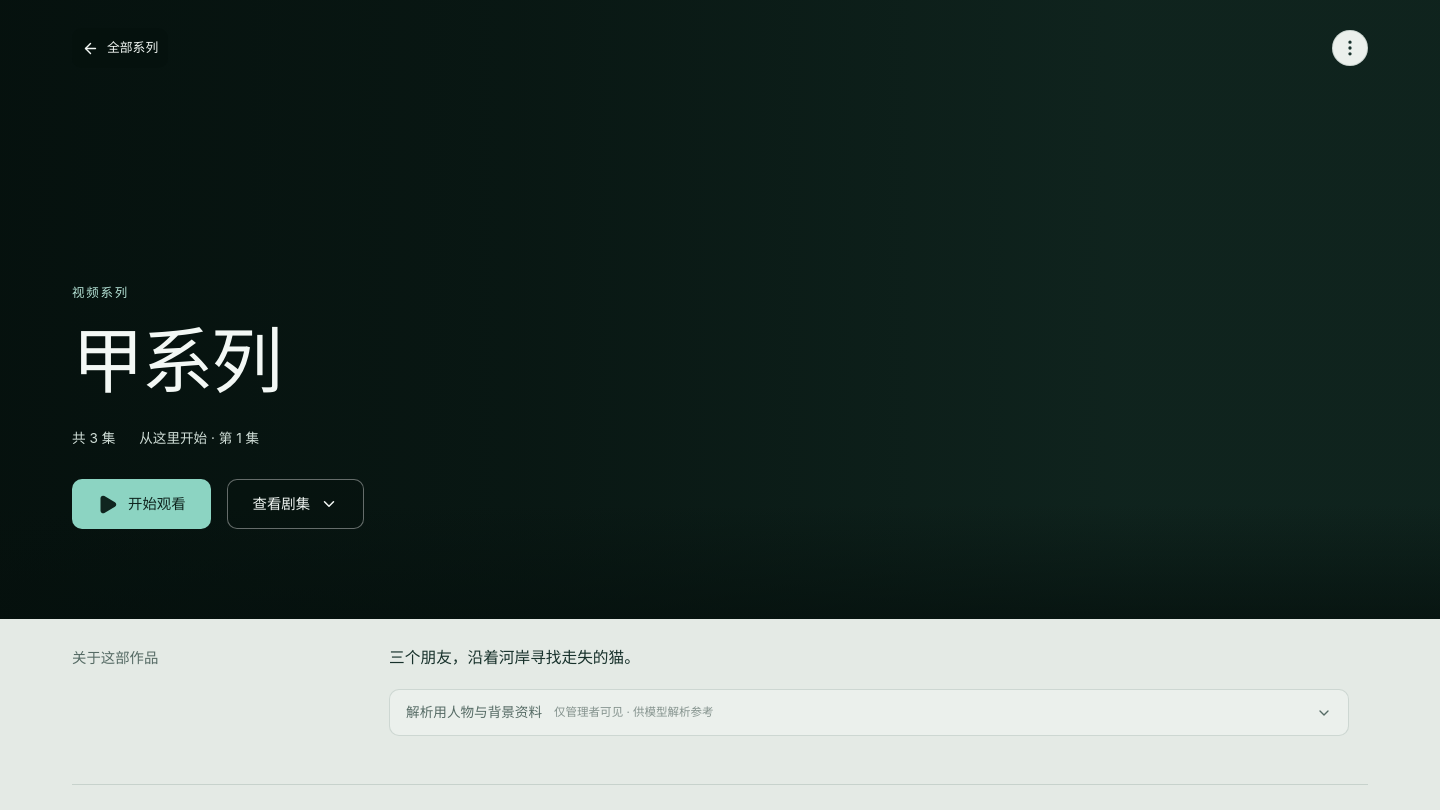
Test case: SeriesPage › shows the viewer description once and the background only after expanding
Click the text "解析用人物与背景资料" at (474, 713), box x1=406 y1=702 x2=542 y2=723
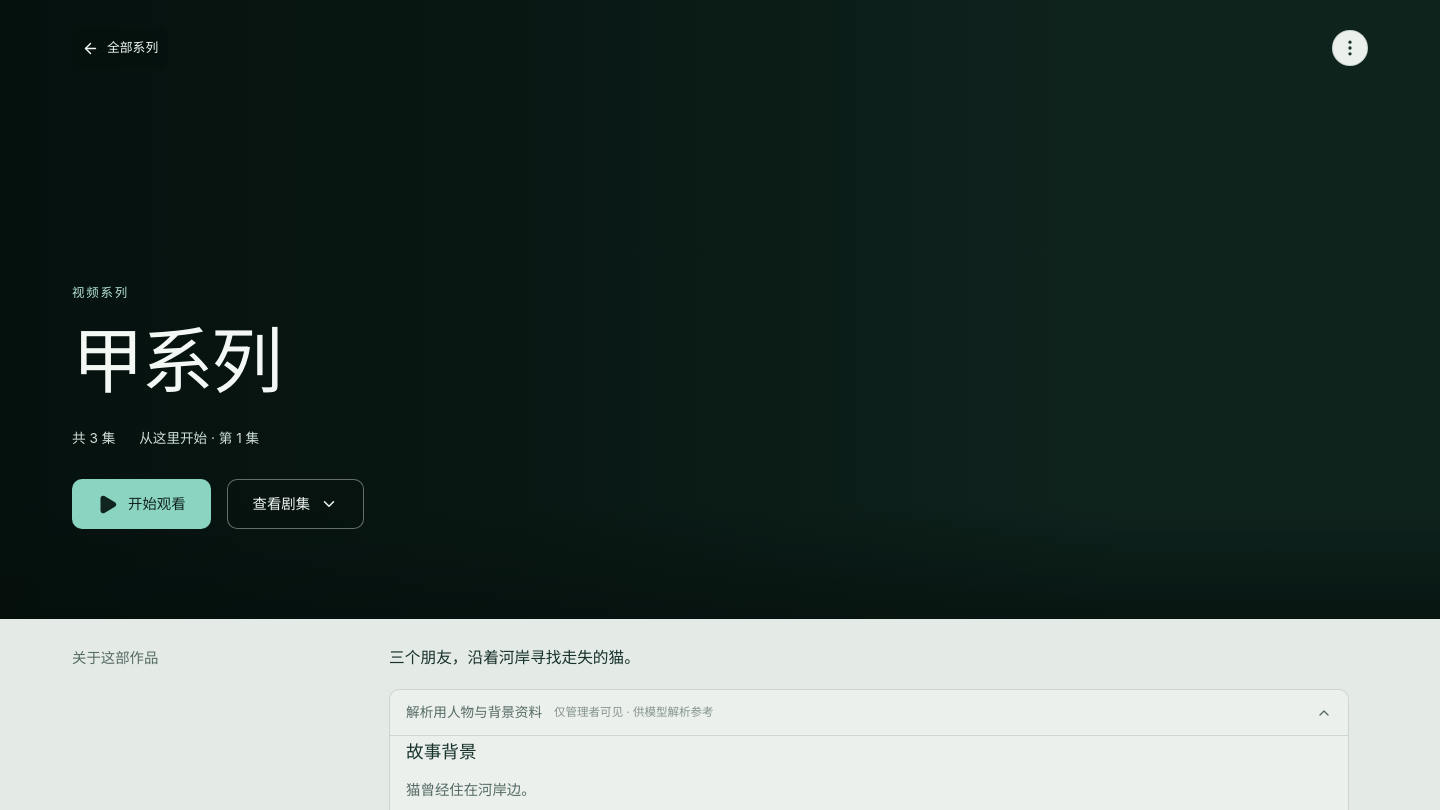
Expected: the text "三个朋友，沿着河岸寻找走失的猫。" is shown once, x1=389 y1=648 x2=640 y2=667
Result: the heading "故事背景" is shown at x1=406 y1=741 x2=476 y2=762
Result: the text "猫曾经住在河岸边。" is shown at x1=406 y1=781 x2=536 y2=798
